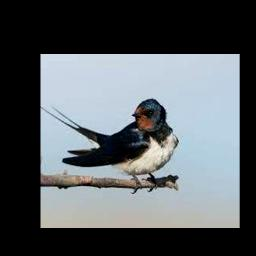Swallow: (40, 99, 177, 191)
